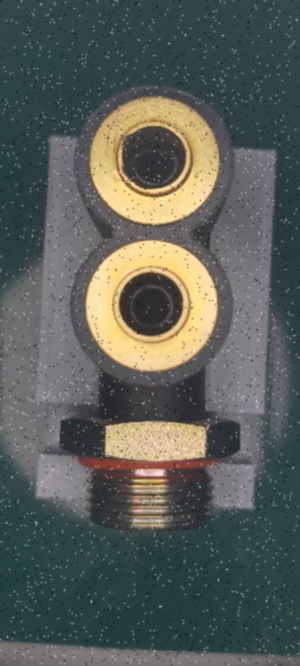craze: (143, 404, 152, 425)
off-centered: (129, 140, 188, 191)
